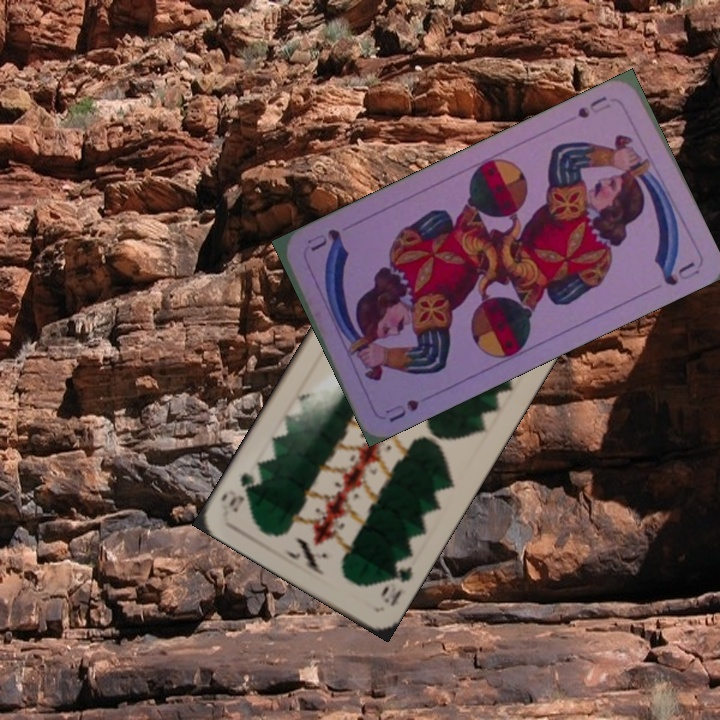G10: (380, 562, 416, 609)
SU: (381, 395, 422, 426), (574, 91, 613, 121)
